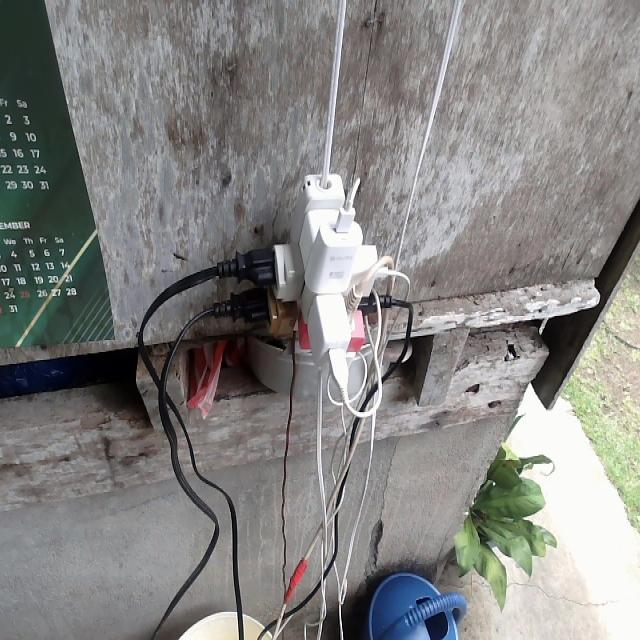-: (211, 171, 410, 417)
